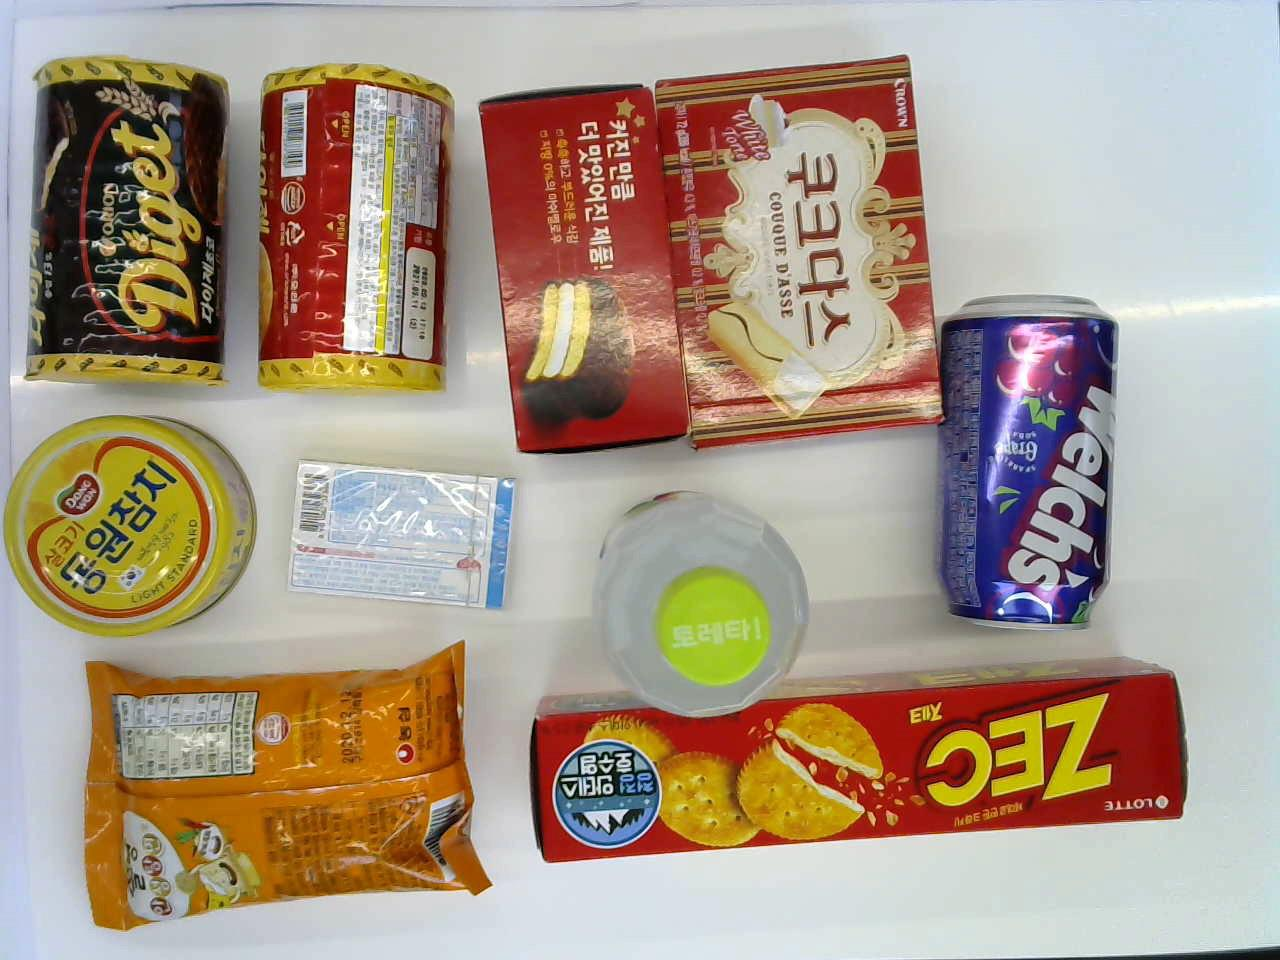ID_gum: (283, 457, 517, 621)
chocopie: (474, 82, 691, 447)
couque_white: (655, 52, 951, 449)
diget_choco: (30, 55, 227, 390)
diget_ori: (260, 63, 449, 391)
jjolbyung_noodle: (77, 635, 489, 942)
toreta: (593, 489, 809, 715)
tuna: (6, 417, 256, 636)
welchs: (939, 285, 1125, 626)
zec: (528, 651, 1188, 873)
